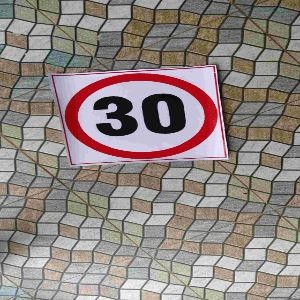speedlimit30: (57, 70, 225, 158)
